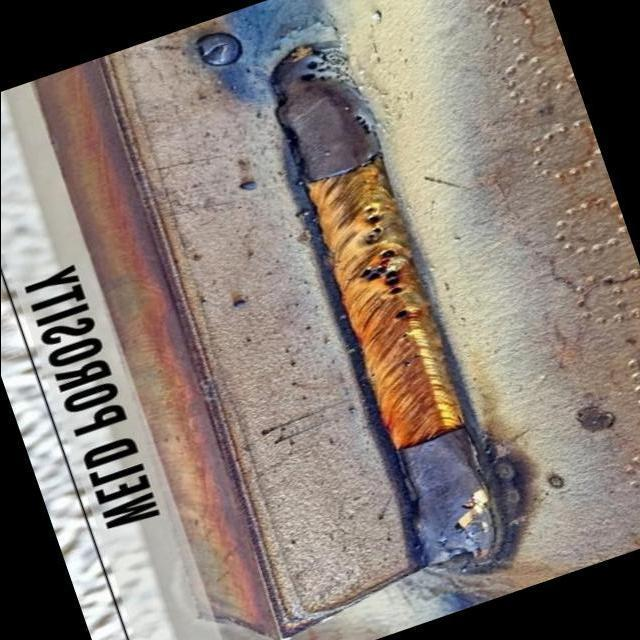defect: (351, 245, 407, 299), (297, 49, 361, 91), (362, 204, 384, 244), (352, 113, 373, 136), (402, 351, 423, 368), (389, 309, 412, 322), (400, 329, 413, 340)
